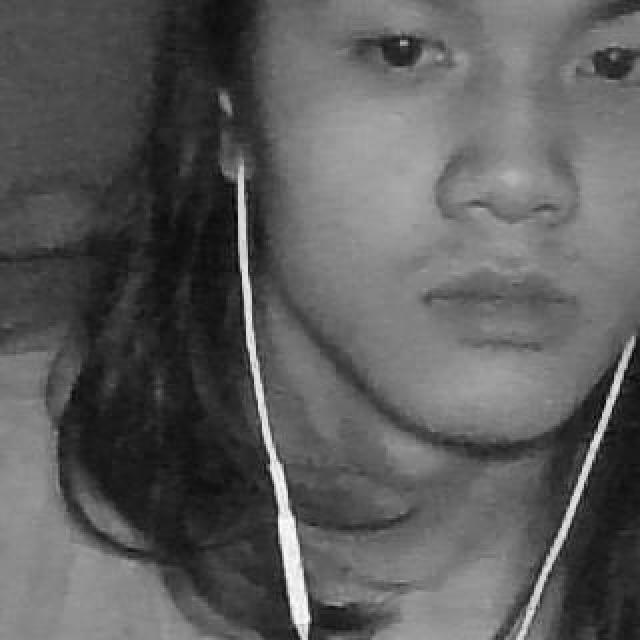Focused: (290, 0, 640, 436)
